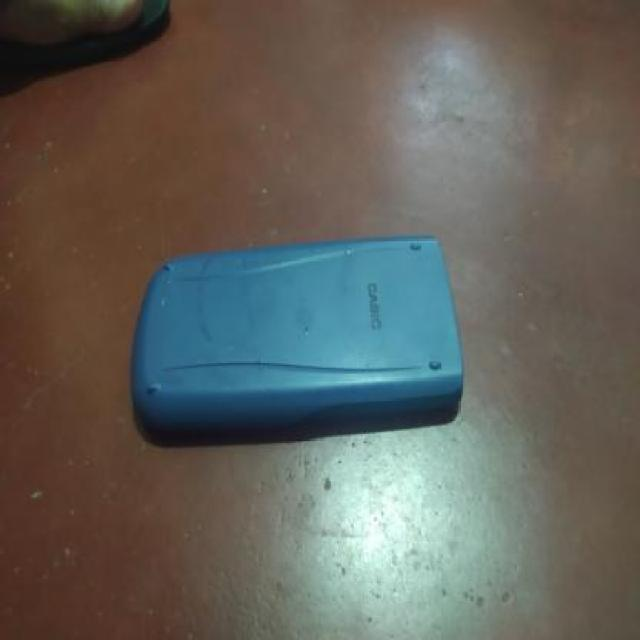Calculator: (127, 243, 470, 445)
